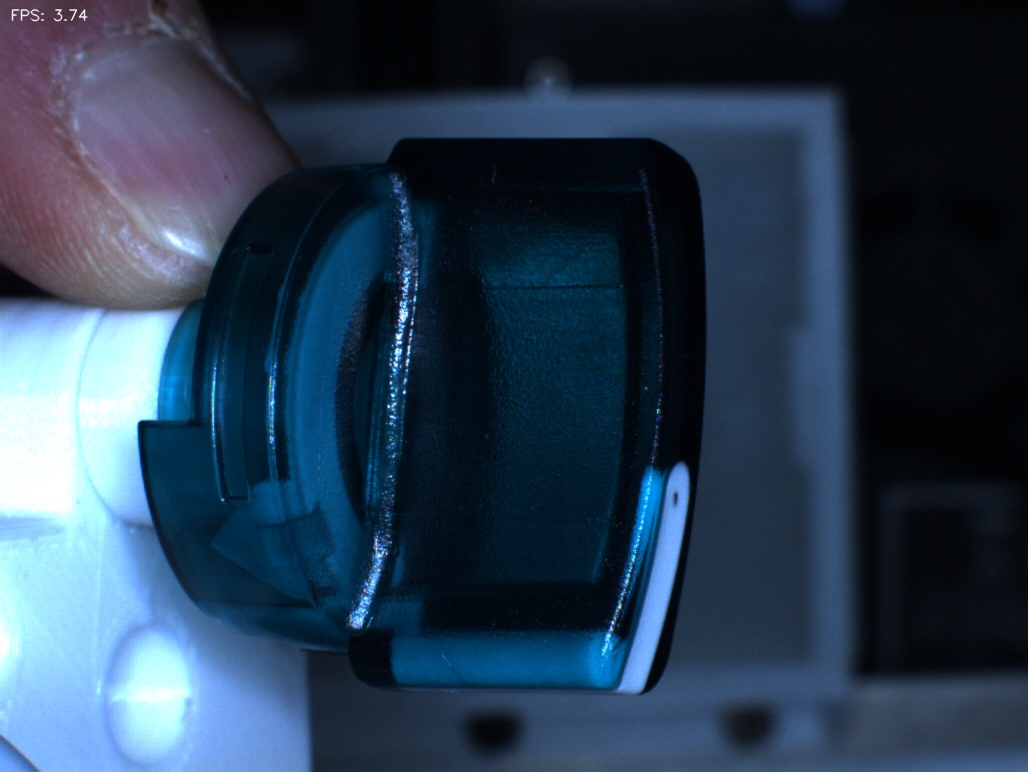PointNoir: (638, 442, 724, 547)
